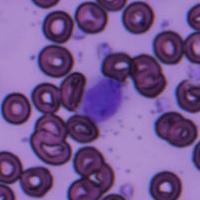L: (80, 76, 130, 127)
